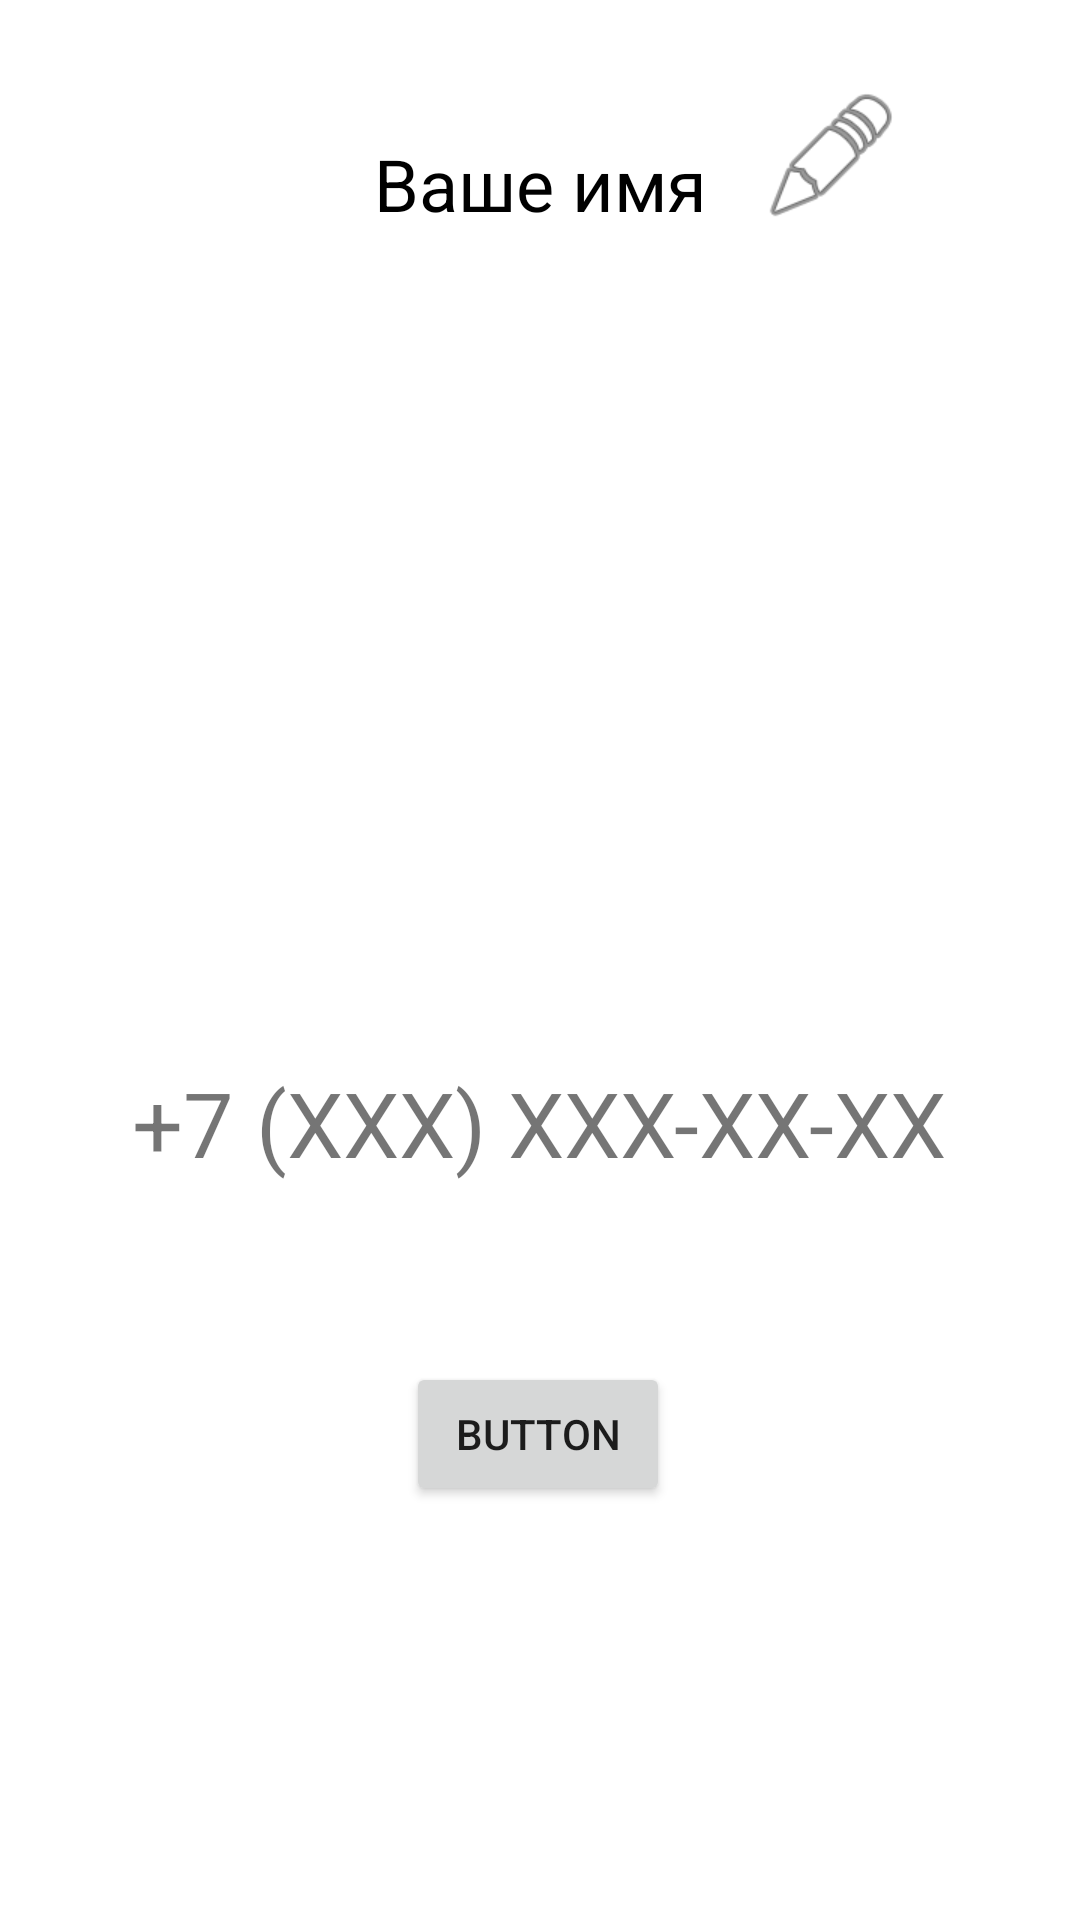

Screen size 1080 × 1920. Icon name, then its center in pixels as point (x, y):
edit: point (831, 155)
